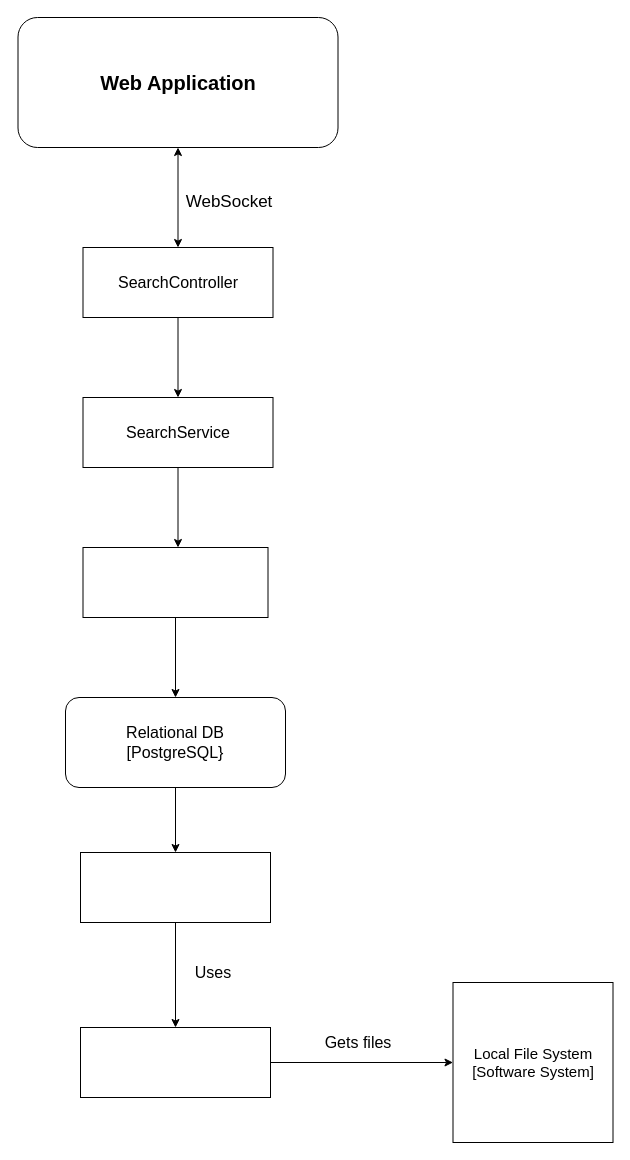
The diagram is 630 pixels wide and 1160 high, and some of its shapes have lost their labels. Each missing label, with the centre of its shape:
FileScraper: point 175,1062
IndexBuilder: point 175,887
SearchRepository: point 175,582
